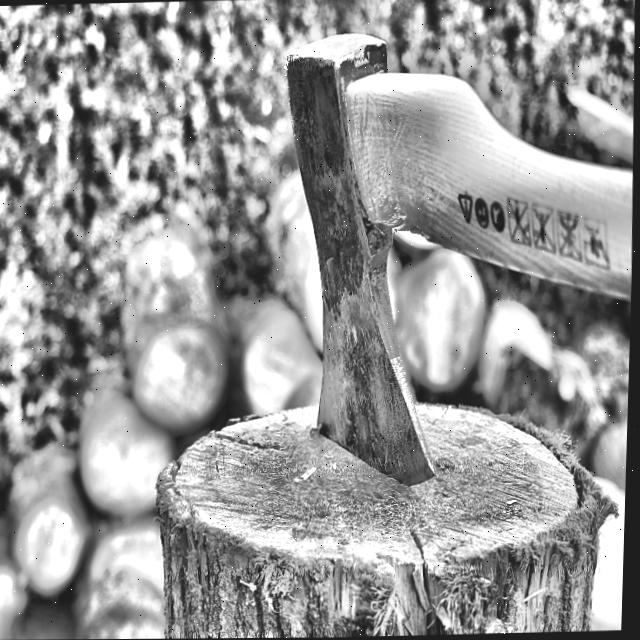kapak: (274, 20, 631, 491)
